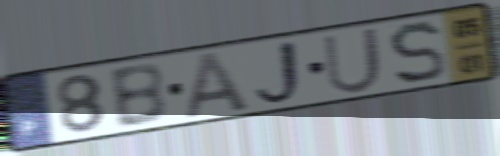8: (54, 72, 107, 136)
A: (182, 48, 254, 123)
B: (106, 60, 170, 131)
J: (250, 37, 309, 108)
S: (386, 19, 448, 88)
U: (320, 24, 385, 96)
